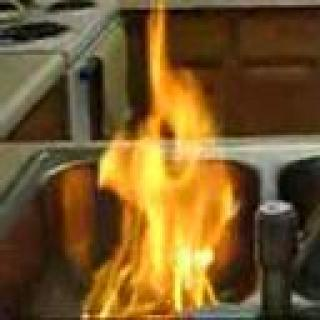fire: (97, 16, 239, 320)
